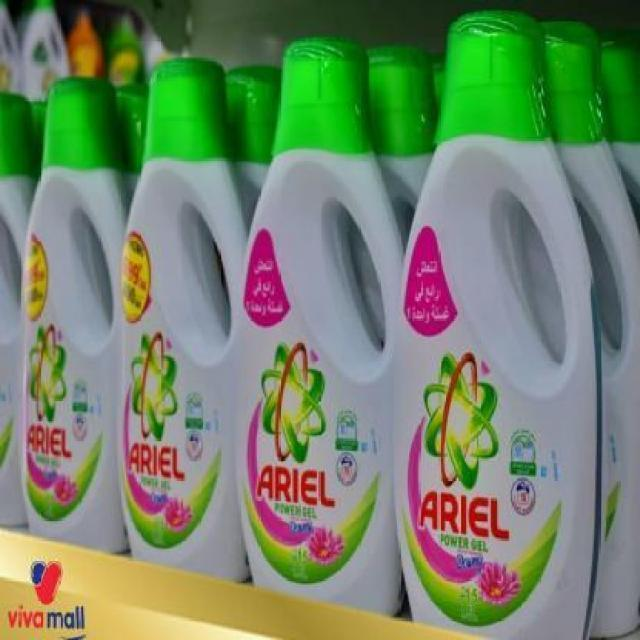Detergent: (395, 10, 602, 632), (232, 29, 398, 608), (107, 59, 242, 576), (21, 76, 122, 550)
